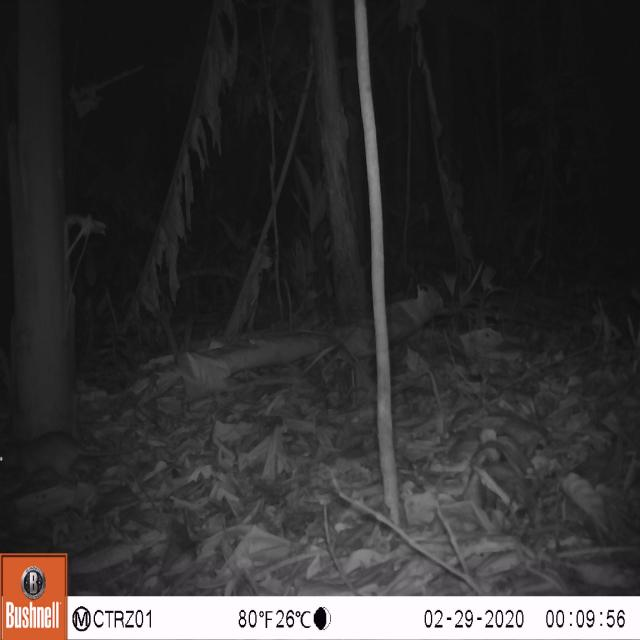Rodent: (0, 416, 114, 504)
